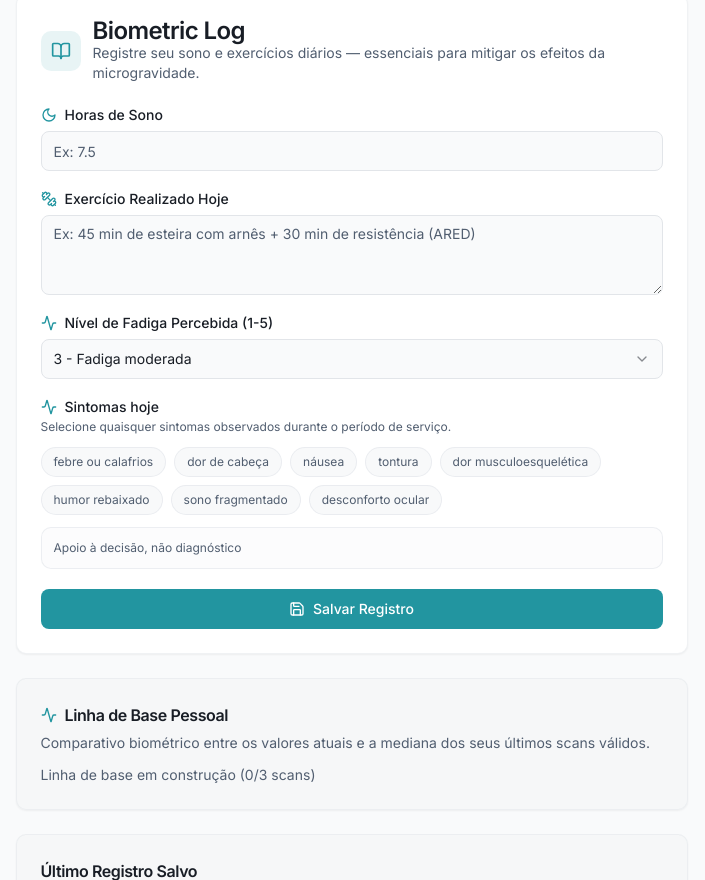
Test: MissionLog (AAA Pattern) › 1. Salva e recupera (AAA) › salva horas_sono e treino no Supabase e grava fadiga percebida no localStorage sob a chave correta
Type "8" into the number field labelled "Horas de Sono".
click(352, 151); type("8")  # box left=40, top=131, right=662, bottom=171
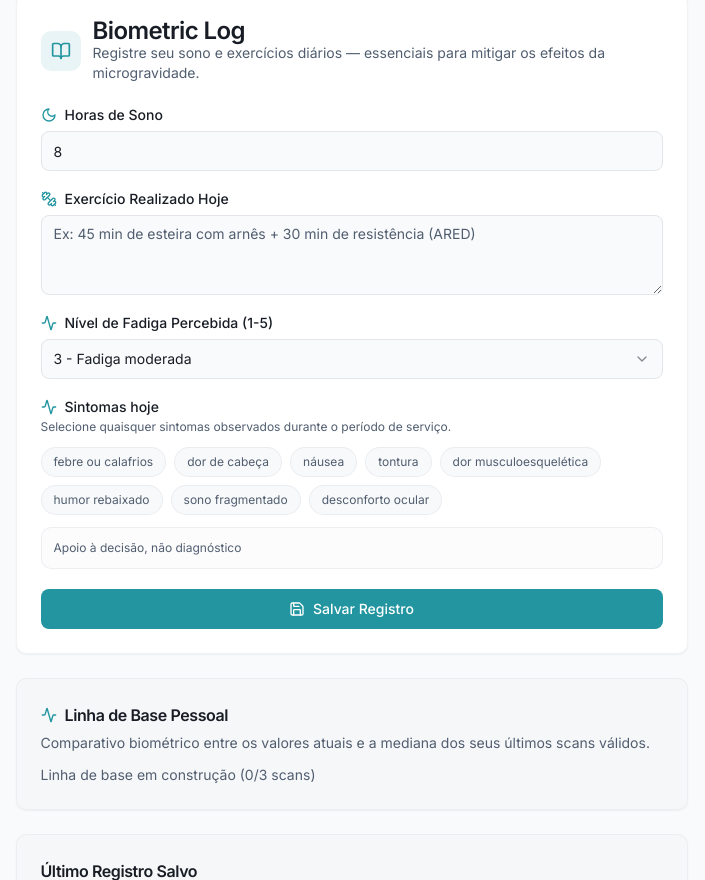
Replace the text in the text box labelled "Exercício Realizado Hoje" with "60 min ciclismo ergométrico" at [352, 255], box left=40, top=215, right=662, bottom=295
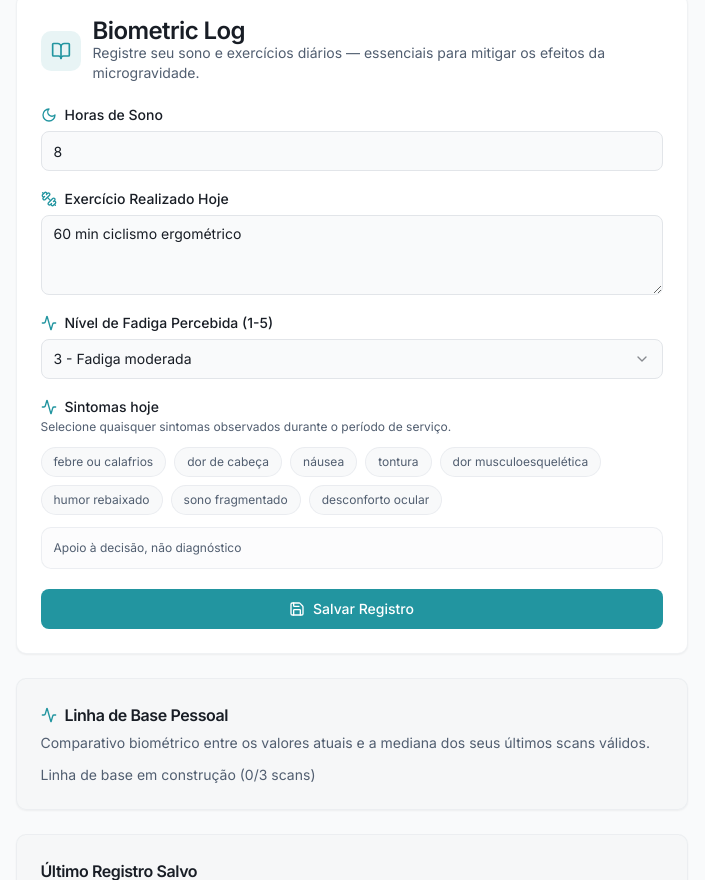
Click the button "Salvar Registro".
click(352, 609)  # box left=40, top=589, right=662, bottom=629
(page scrolled)
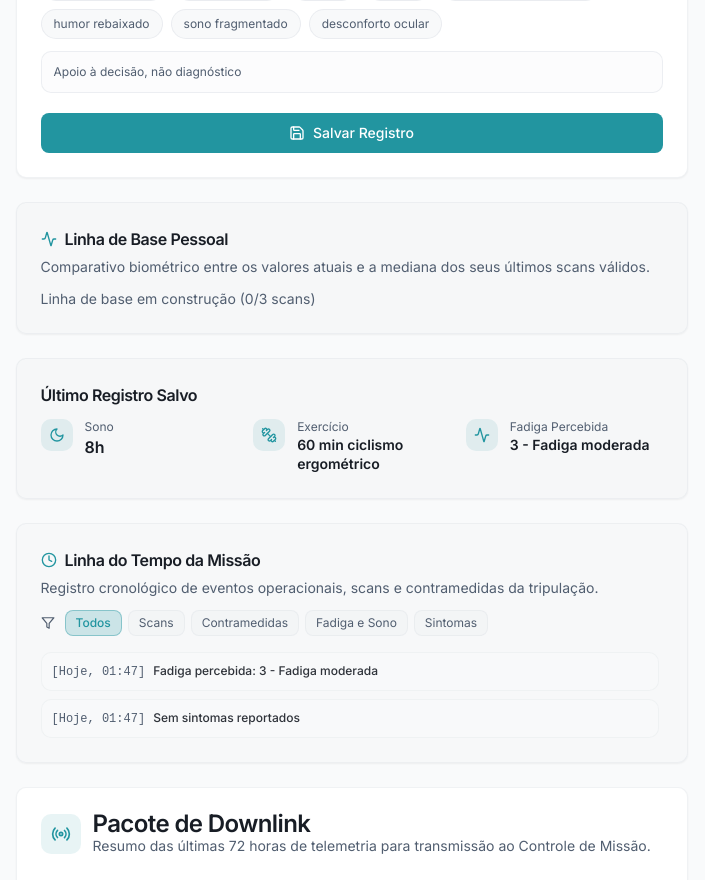
expect the text "3 - Fadiga moderada" is shown: met, box left=510, top=435, right=649, bottom=454
